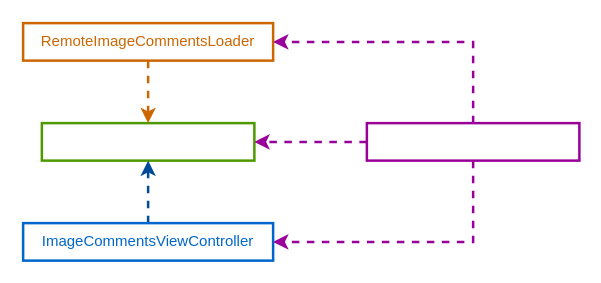
Image size: 601x283. Some labels were removed from this diagram. The centre of each missing label's shape, as x and y in pixels:
<ImageCommentsLoader>: [147,141]
ImageCommentsUIComposer: [472,141]
